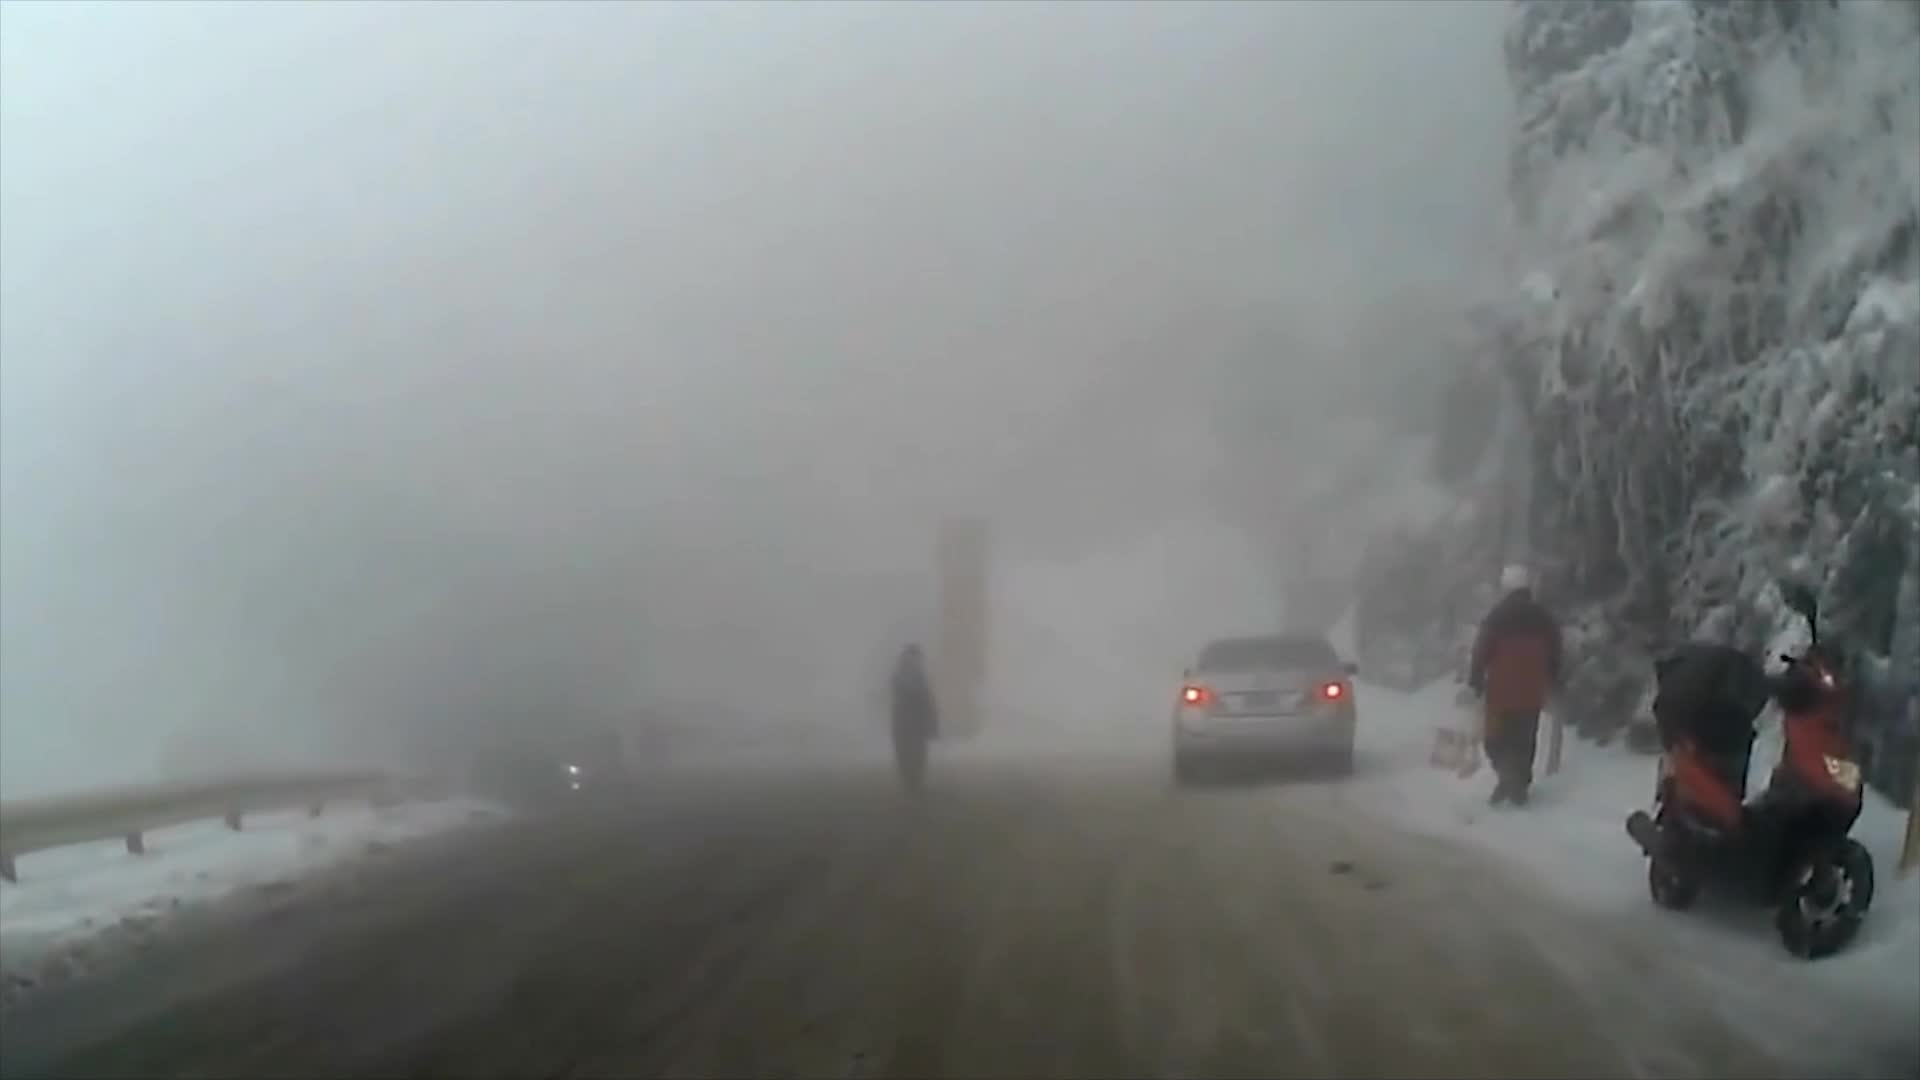pedestrian: (1468, 565, 1573, 816), (885, 642, 936, 806)
vehicle: (1171, 633, 1362, 790)
